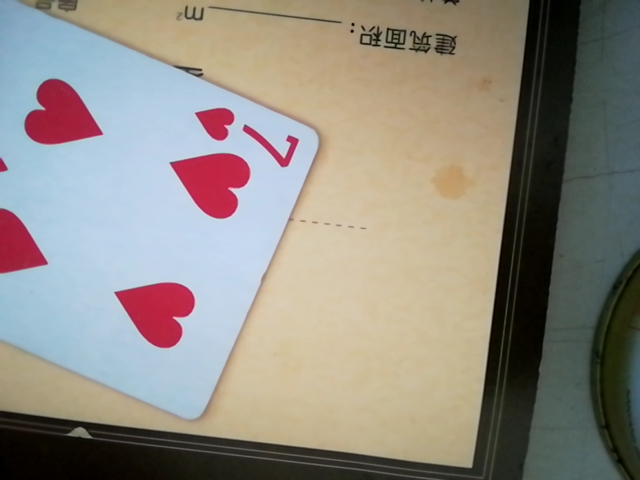hx 7: (0, 0, 331, 432)
